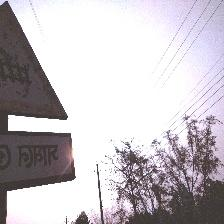Rail-crossing: (0, 0, 78, 192)
